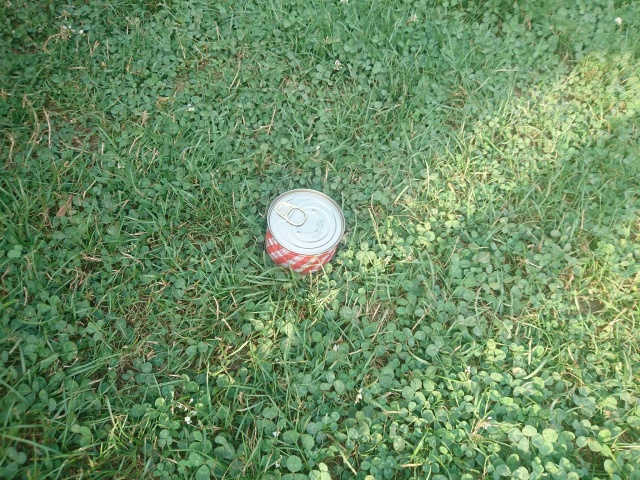Podravka Luncheon Meat 150g: (261, 186, 348, 276)
